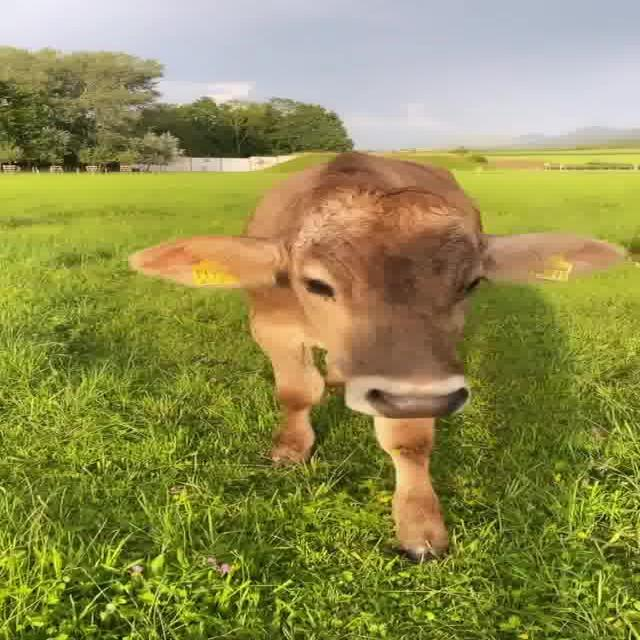cowFace: (134, 186, 620, 387)
